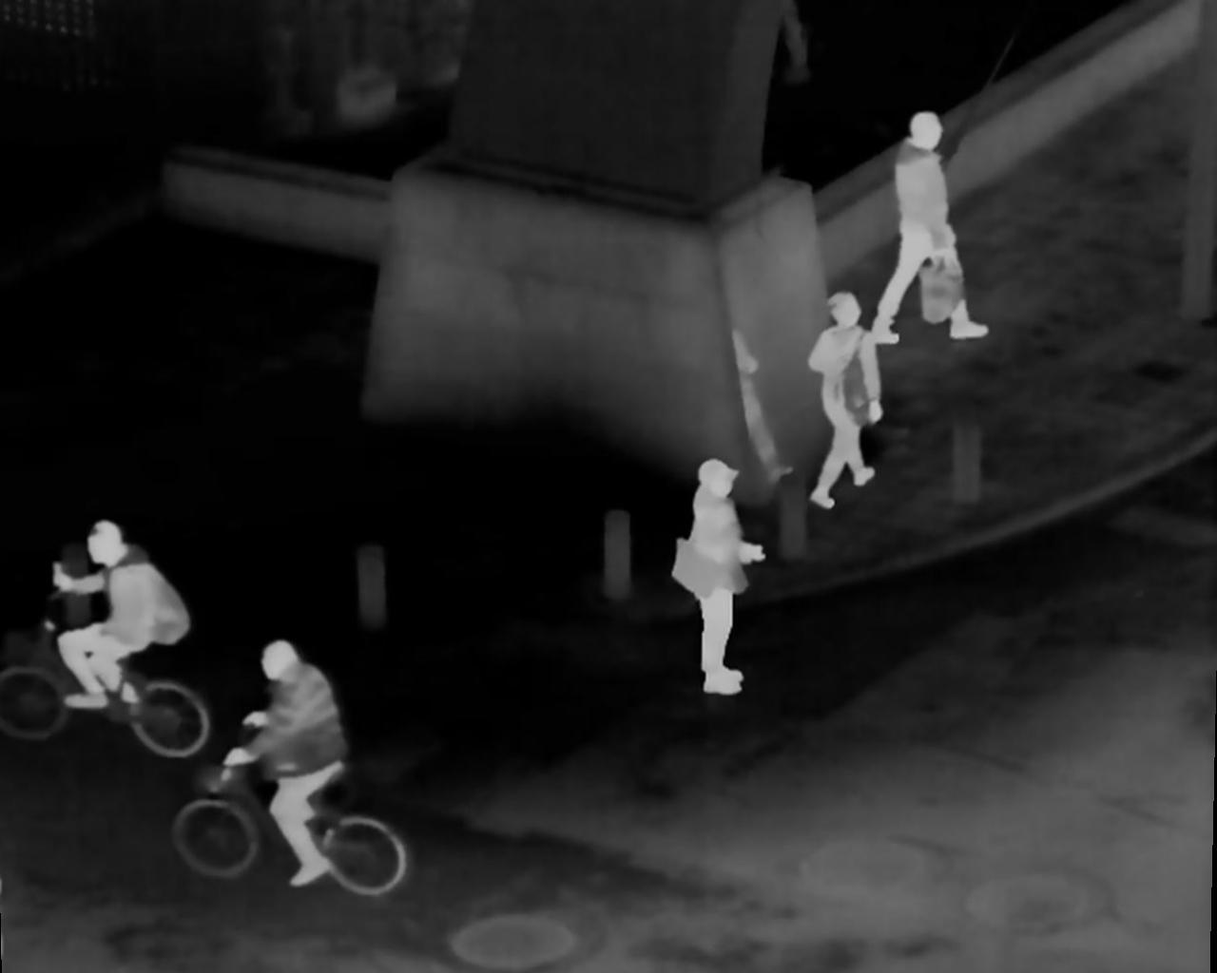person: (38, 521, 192, 700), (230, 638, 332, 901), (873, 110, 976, 353), (674, 448, 774, 696), (797, 294, 885, 512)
